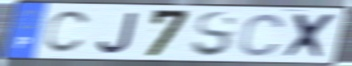7: (145, 8, 192, 59)
C: (42, 9, 93, 55), (237, 12, 287, 58)
J: (96, 11, 140, 56)
S: (190, 10, 240, 59)
X: (281, 12, 341, 60)
